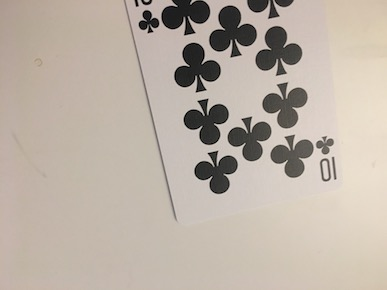TenOfClubs: (120, 1, 348, 225)
